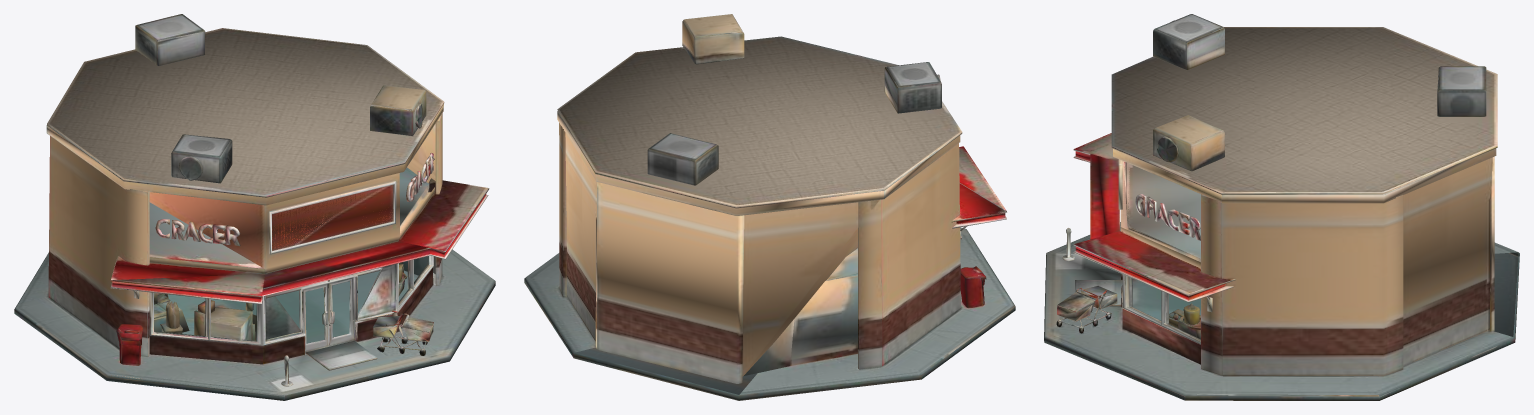
The model's file is bld_grocery_store.glb.
The picture shows the model from 3 angles, left to right: view 1: azimuth 30°, elevation 25°; view 2: azimuth 150°, elevation 25°; view 3: azimuth 270°, elevation 25°; orthographic projection. The views are drawn at different scales.
Bounding box in the file's own units: 0.9507 × 0.4897 × 0.9497.
Materials: 1 (1 with a texture image).
